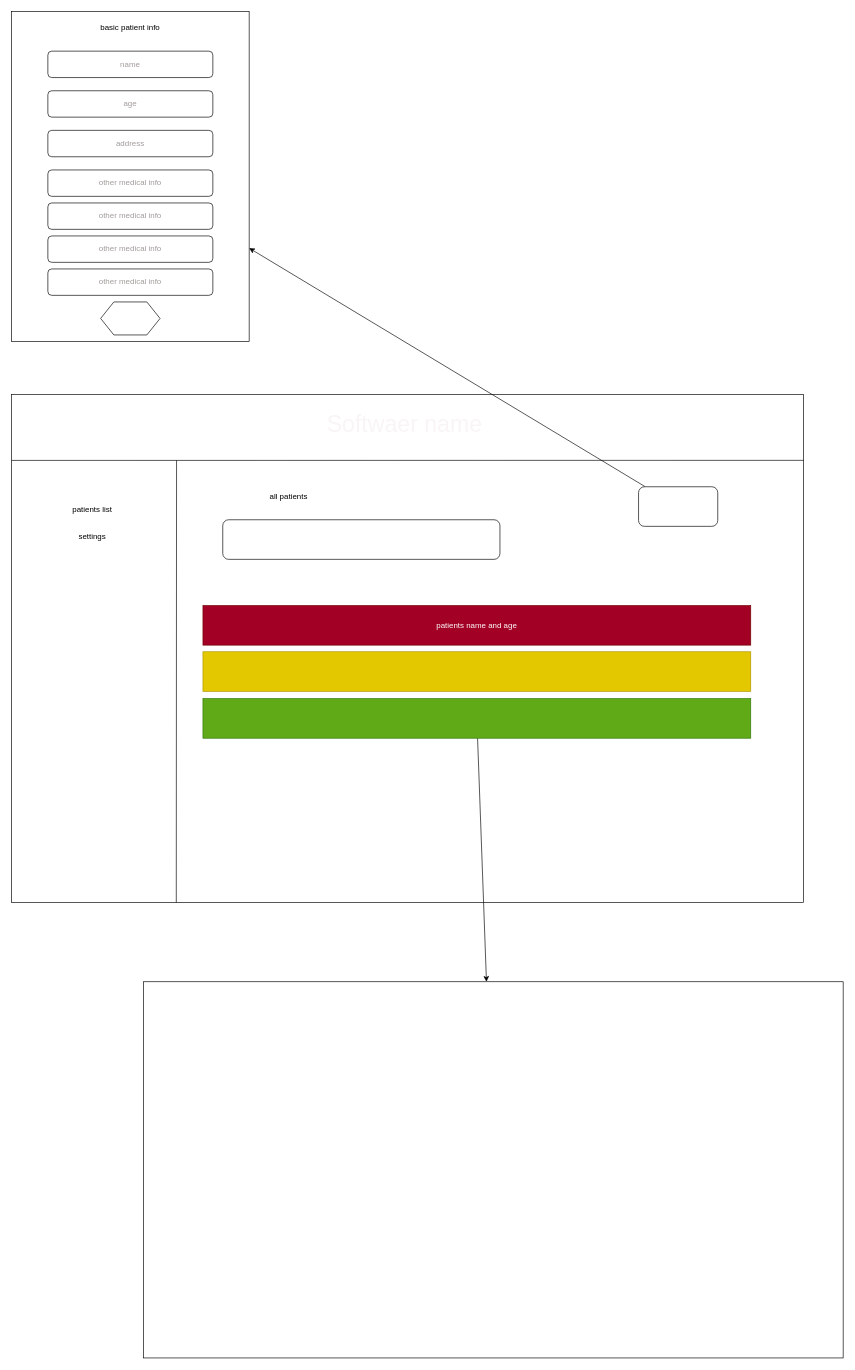
Image size: 855x1370. Some labels were removed from this diagram. Each missing label, with the box of its shape:
Add: (100, 301, 160, 335)
add patient: (638, 486, 718, 526)
search: (222, 519, 500, 559)
